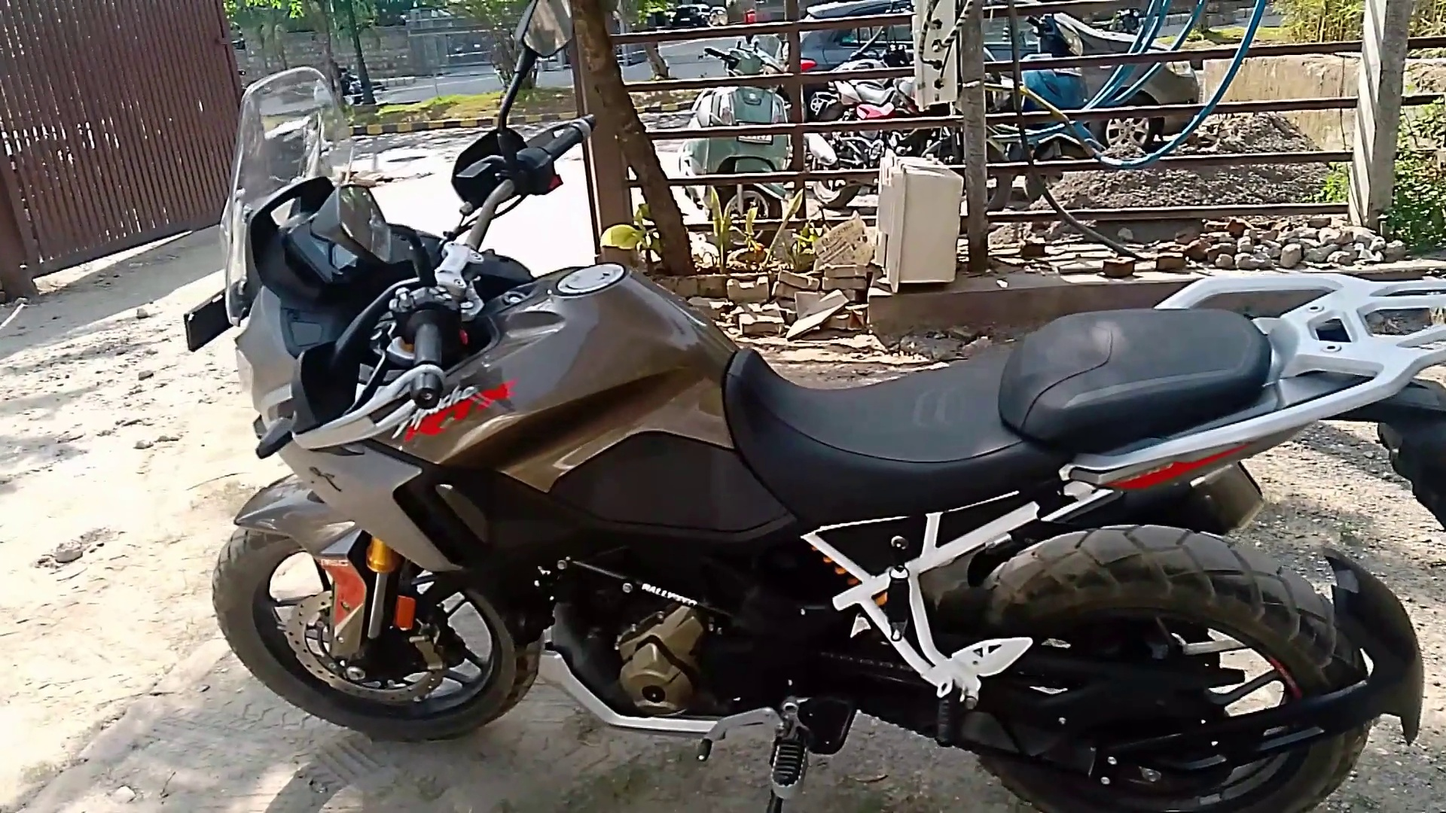engine: (565, 570, 749, 738)
